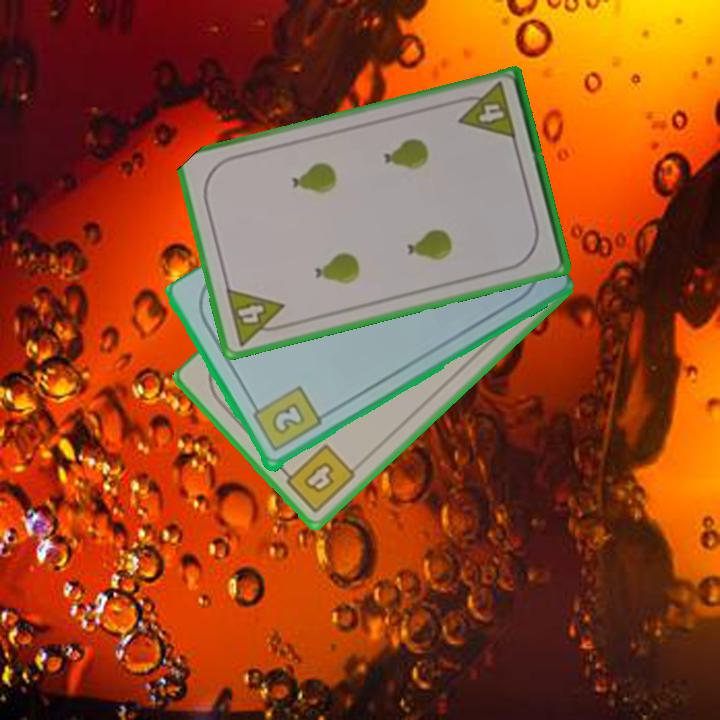2b: (247, 383, 324, 455)
4b: (277, 441, 359, 516)
4p: (222, 284, 292, 349), (451, 79, 519, 143)
